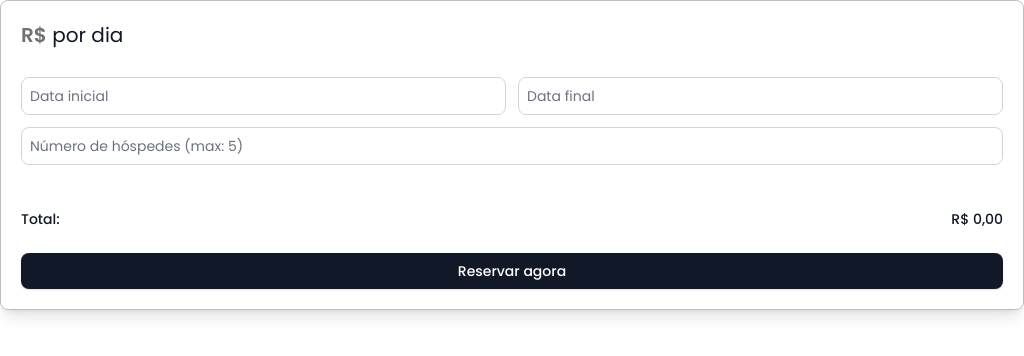
Scenario: TripReservation › should show errors if the input are not filled
Click the button named "Reservar viagem Rancho Sereno" at point(512, 271), box [21,253,1003,289]
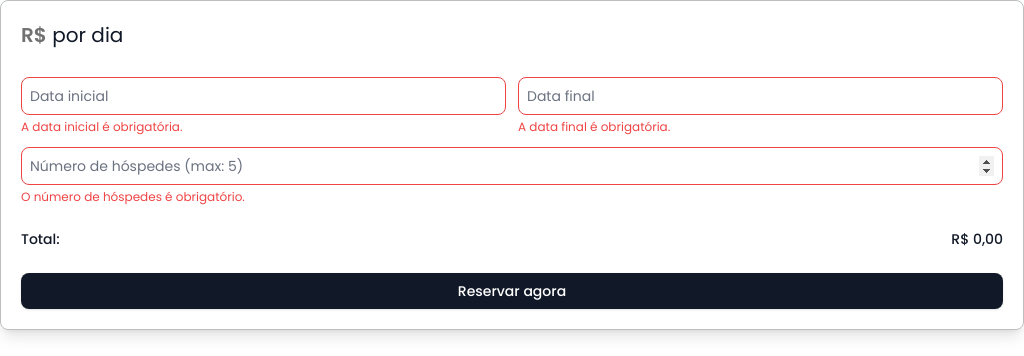
Expected: the text "A data inicial é obrigatória." is shown, [21,118,182,135]
Expected: the text "A data final é obrigatória." is shown, [518,118,670,135]
Expected: the text "O número de hóspedes é obrigatório." is shown, [21,188,245,205]
